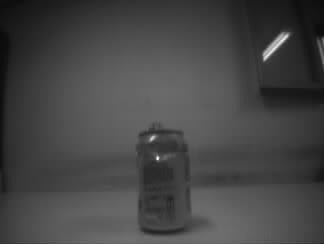Tin can: (135, 121, 193, 235)
